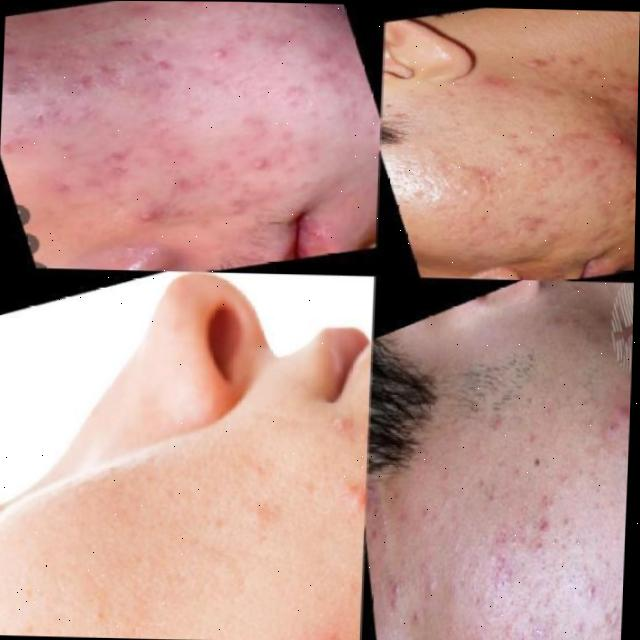Acne: (70, 19, 333, 221), (440, 363, 631, 640), (497, 7, 640, 234), (131, 476, 358, 616)
